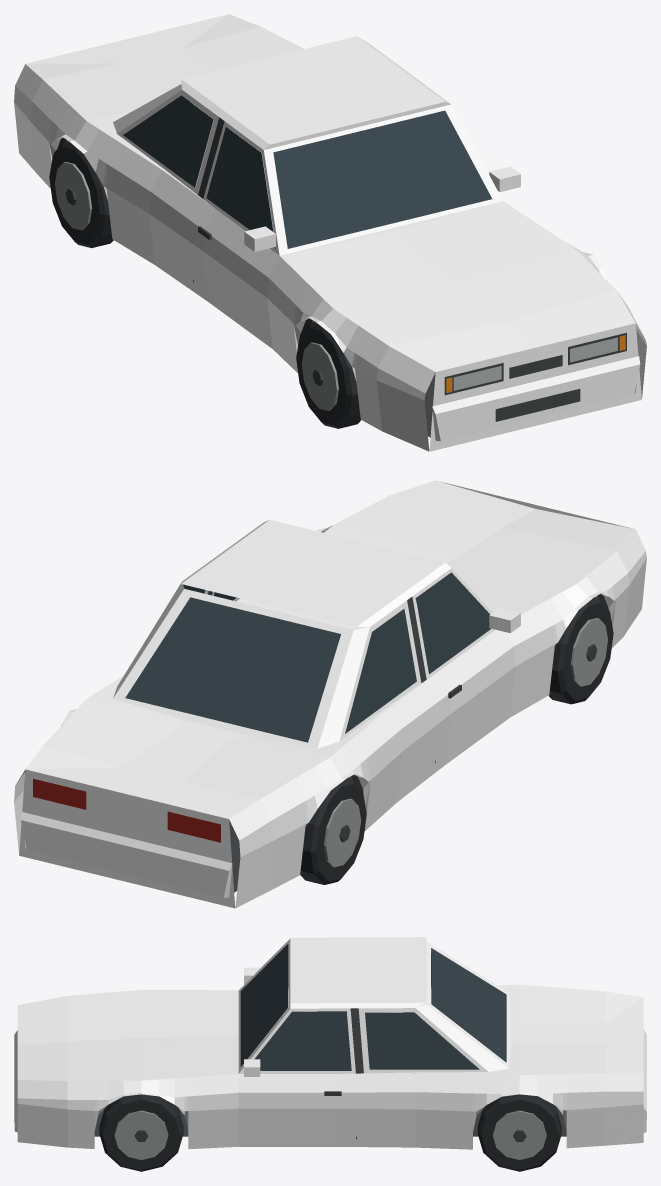
The model's file is hoshino_kogane_ii.glb.
The picture shows the model from 3 angles, top to bottom: view 1: azimuth 30°, elevation 25°; view 2: azimuth 150°, elevation 25°; view 3: azimuth 270°, elevation 25°; orthographic projection. The views are drawn at different scales.
Visible parts, largest first — view 1: hoshino_kogane_ii; view 2: hoshino_kogane_ii; view 3: hoshino_kogane_ii.
Part boxes in pixels (x1,y1,x2,y2): hoshino_kogane_ii: (14, 14, 646, 451); hoshino_kogane_ii: (14, 480, 646, 908); hoshino_kogane_ii: (14, 937, 646, 1171).
Size of the model in its own units: 1.82 by 1.26 by 4.7.
8 materials, 1 textured.
